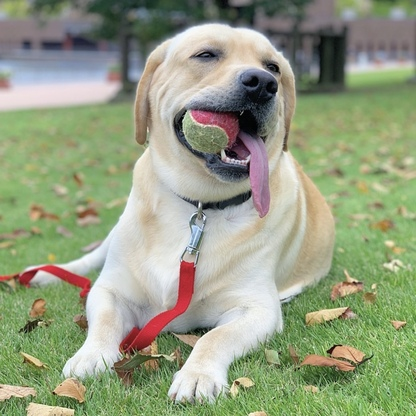labrado: (13, 17, 341, 408)
